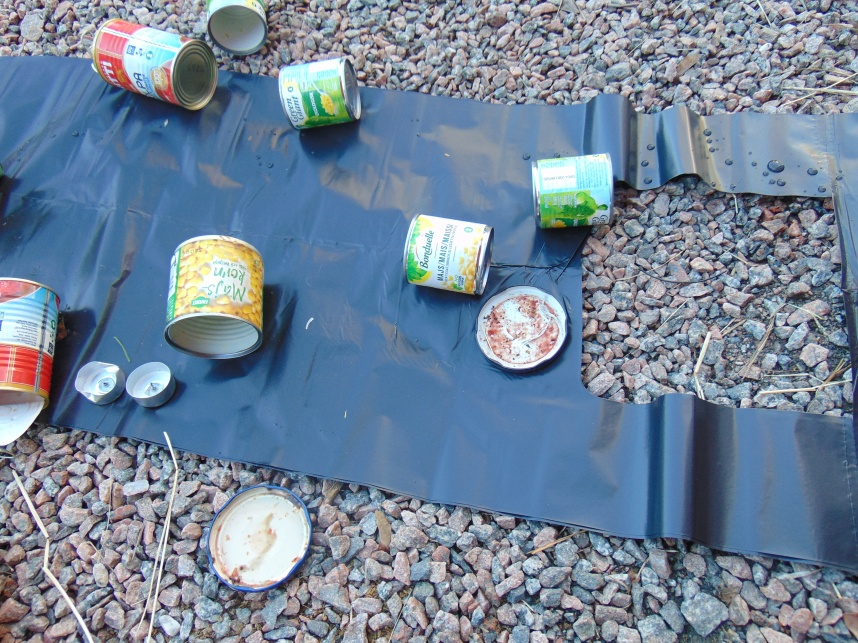metal: (202, 482, 313, 596), (476, 284, 572, 374), (125, 361, 177, 413), (74, 361, 125, 409), (1, 399, 46, 451)
metal_can: (165, 234, 269, 360), (92, 18, 218, 112), (402, 209, 495, 295), (1, 274, 62, 405), (525, 152, 617, 229), (276, 55, 363, 129), (205, 1, 267, 55)
